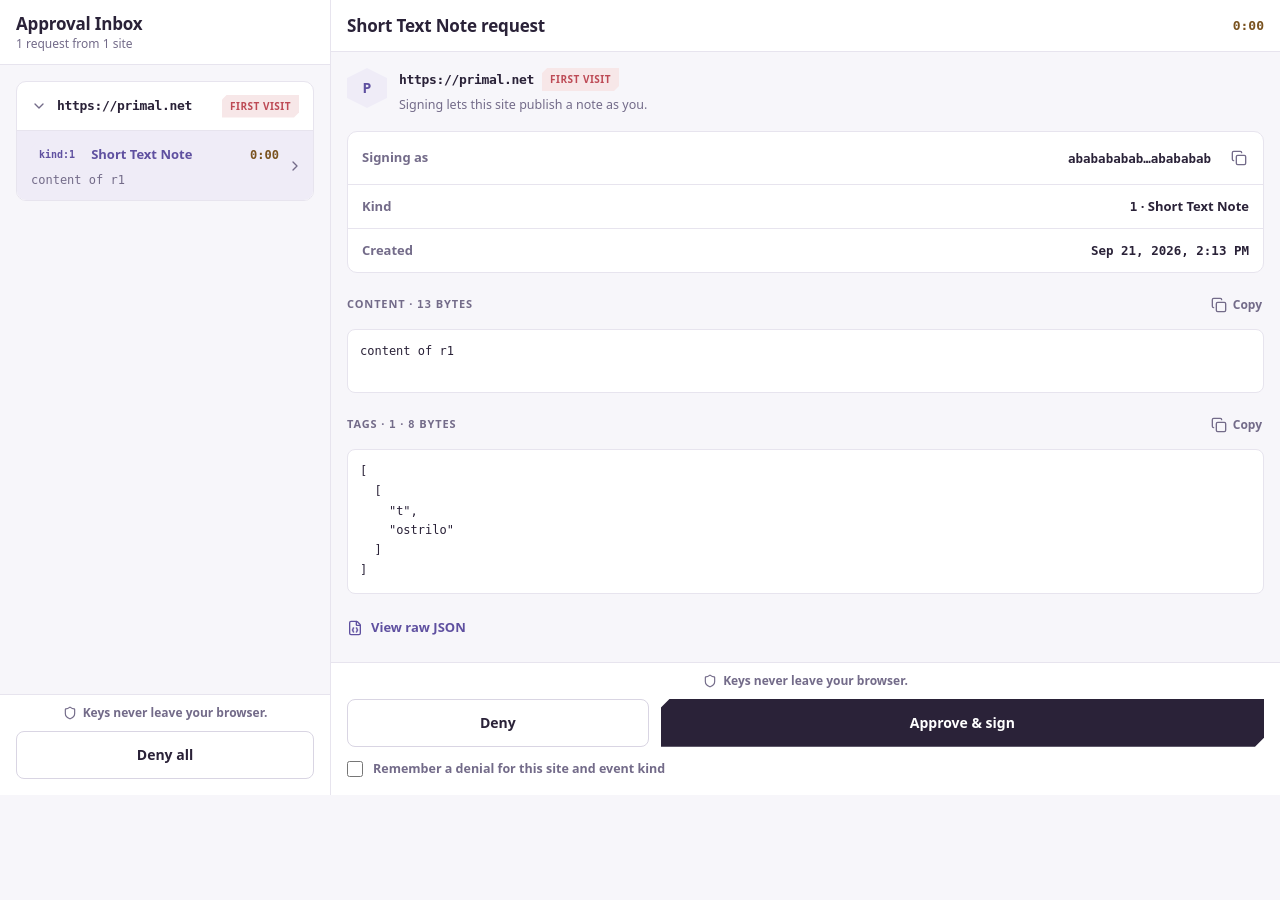
Test: ApprovalPrompt decisions › shows the refusal when resolving fails and re-enables the controls
Click the button "Approve & sign" at (962, 723), box left=661, top=699, right=1264, bottom=747
Wait 600 ms
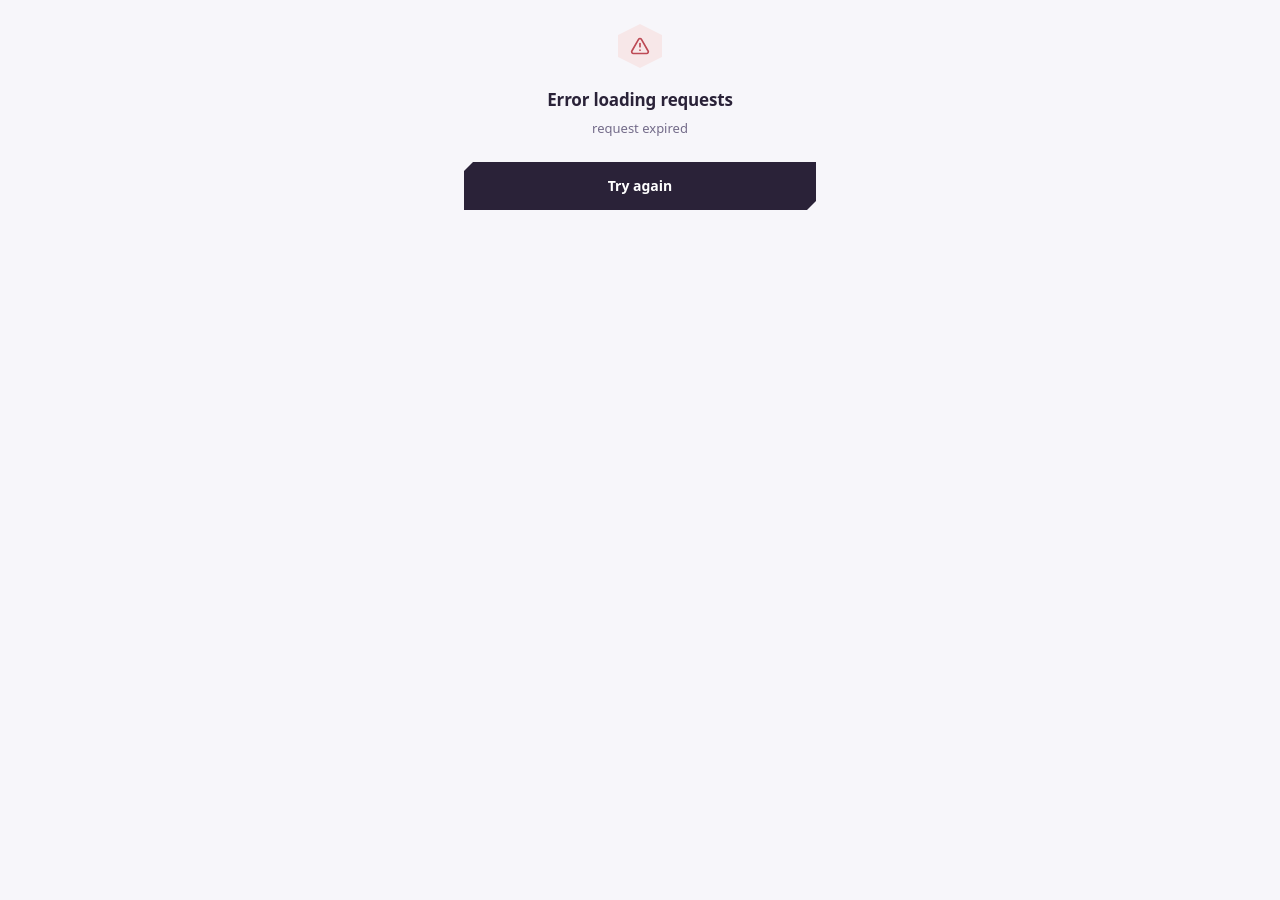
Result: the text "Error loading requests" is shown at left=547, top=88, right=733, bottom=112
Result: the text "request expired" is shown at left=592, top=118, right=688, bottom=138
